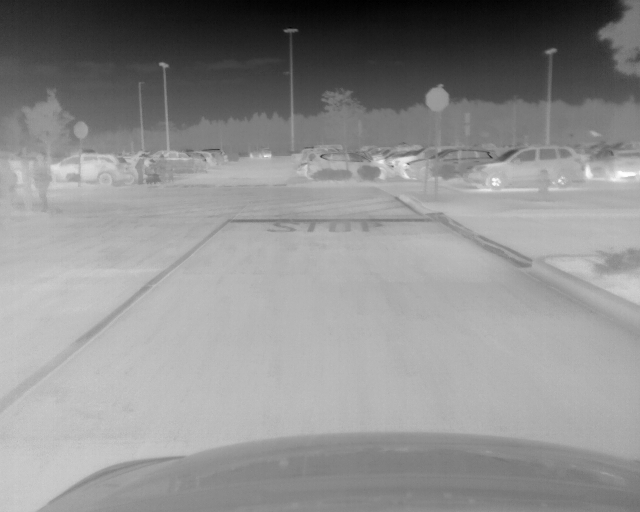car: (463, 146, 584, 186), (46, 154, 132, 186), (405, 150, 499, 178), (306, 150, 385, 179), (588, 148, 639, 179), (1, 160, 18, 224), (34, 162, 52, 213), (389, 151, 425, 174), (19, 159, 33, 215), (165, 150, 206, 169), (249, 146, 272, 159), (205, 150, 220, 168), (296, 162, 306, 177)
people: (136, 153, 145, 185), (157, 155, 166, 183), (146, 158, 157, 177), (167, 168, 173, 184)
